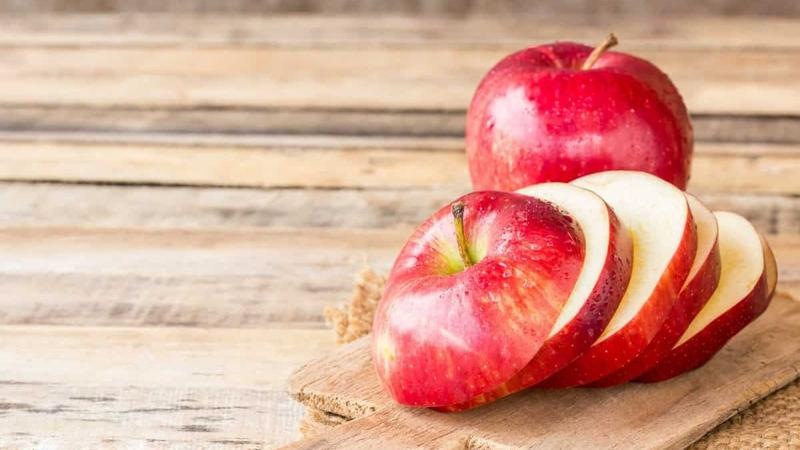apples: (473, 52, 715, 239)
